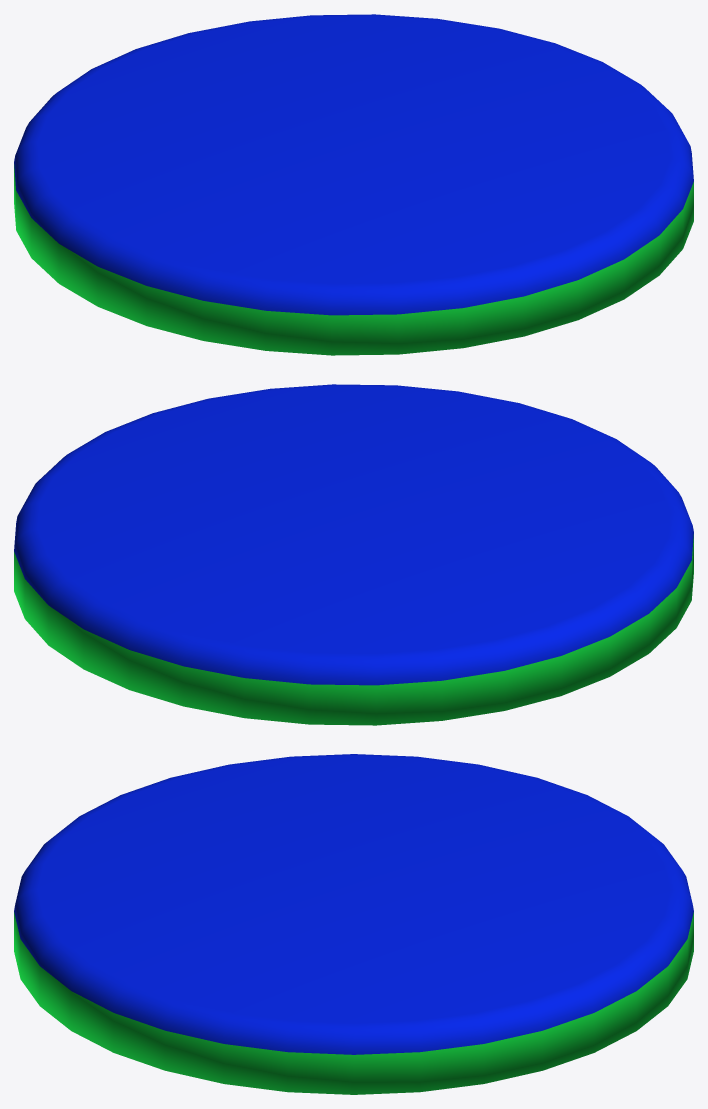
The picture shows the model from 3 angles, top to bottom: view 1: azimuth 30°, elevation 25°; view 2: azimuth 150°, elevation 25°; view 3: azimuth 270°, elevation 25°; orthographic projection.
Parts seen in each view (by area): view 1: Cylinder; view 2: Cylinder; view 3: Cylinder.
Boxes of the visible parts, bbox=[...] form: Cylinder: bbox=[14, 14, 693, 355]; Cylinder: bbox=[14, 384, 693, 725]; Cylinder: bbox=[14, 754, 693, 1094].
Bounding box in the file's own units: 10 × 1 × 10.
